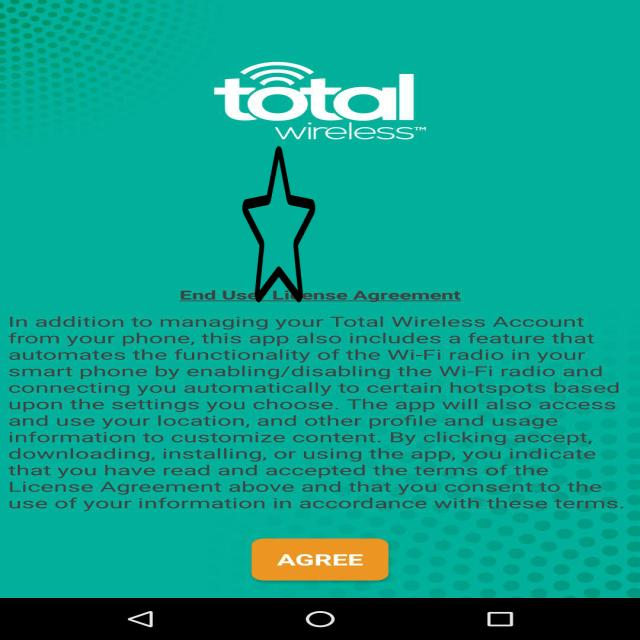forced continuity: (242, 142, 316, 306)
